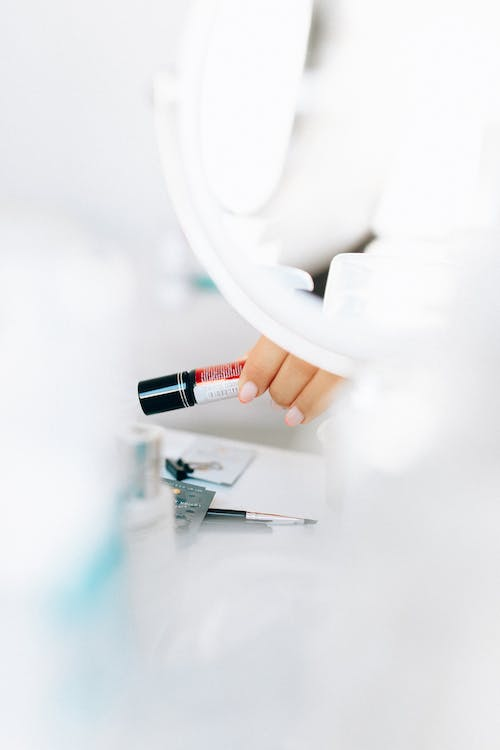blood: (188, 358, 247, 407)
